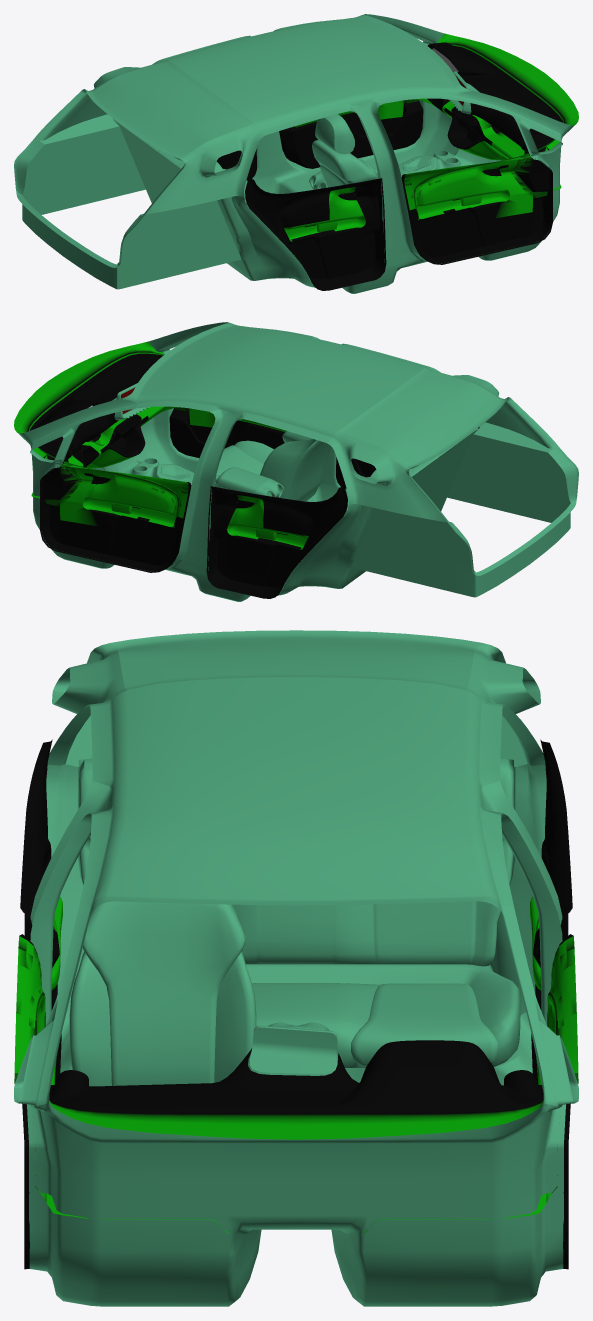
The model's file is Vivace_Interiors_Static.fbx.
3 views of the same model, one above another, from view 1: azimuth 30°, elevation 25°; view 2: azimuth 150°, elevation 25°; view 3: azimuth 270°, elevation 25° (orthographic). The views are drawn at different scales.
Parts seen in each view (by area): view 1: vivace_carpet, vivace_roof_int, vivace_doorpanel_FR, vivace_doorpanel_RR, vivace_dash, vivace_doorpanel_FL, vivace_seat_FR, vivace_seats_R, vivace_console, vivace_doorpanel_RL; view 2: vivace_carpet, vivace_roof_int, vivace_doorpanel_FL, vivace_doorpanel_RL, vivace_dash, vivace_seat_FR, vivace_doorpanel_FR, vivace_seats_R, vivace_console, vivace_doorpanel_RR; view 3: vivace_carpet, vivace_roof_int, vivace_seats_R, vivace_dash, vivace_seat_FR, vivace_doorpanel_RR, vivace_doorpanel_RL, vivace_display_frame_a, vivace_doorpanel_FR, vivace_doorpanel_FL.
Part boxes in pixels (x1,y1,x2,y2): vivace_carpet: (14,14,574,293); vivace_roof_int: (163,14,471,134); vivace_doorpanel_FR: (401,153,552,264); vivace_doorpanel_RR: (245,178,386,290); vivace_dash: (416,33,578,190); vivace_doorpanel_FL: (279,99,423,168); vivace_seat_FR: (312,114,419,254); vivace_seats_R: (114,120,307,278); vivace_console: (309,149,500,189); vivace_doorpanel_RL: (216,149,256,180); vivace_carpet: (18,322,578,601); vivace_roof_int: (121,322,429,442); vivace_doorpanel_FL: (40,461,191,572); vivace_doorpanel_RL: (206,486,347,598); vivace_dash: (14,341,176,498); vivace_seat_FR: (194,431,331,501); vivace_doorpanel_FR: (169,407,286,458); vivace_seats_R: (285,428,478,586); vivace_console: (92,457,283,497); vivace_doorpanel_RR: (336,457,376,488); vivace_carpet: (14,630,578,1306); vivace_roof_int: (79,677,513,915); vivace_seats_R: (78,758,520,1067); vivace_dash: (35,1040,557,1233); vivace_seat_FR: (69,901,256,1086); vivace_doorpanel_RR: (20,739,62,1083); vivace_doorpanel_RL: (530,739,572,1083); vivace_display_frame_a: (248,1025,343,1075); vivace_doorpanel_FR: (14,934,56,1269); vivace_doorpanel_FL: (536,934,578,1269).
Bounding box in the file's own units: 307 × 114 × 156.
